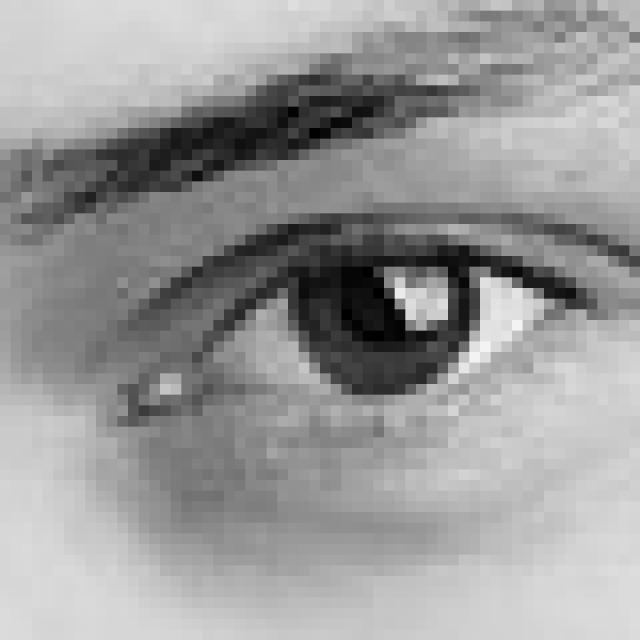eye: (79, 160, 620, 522)
gaze: (281, 225, 494, 402)
